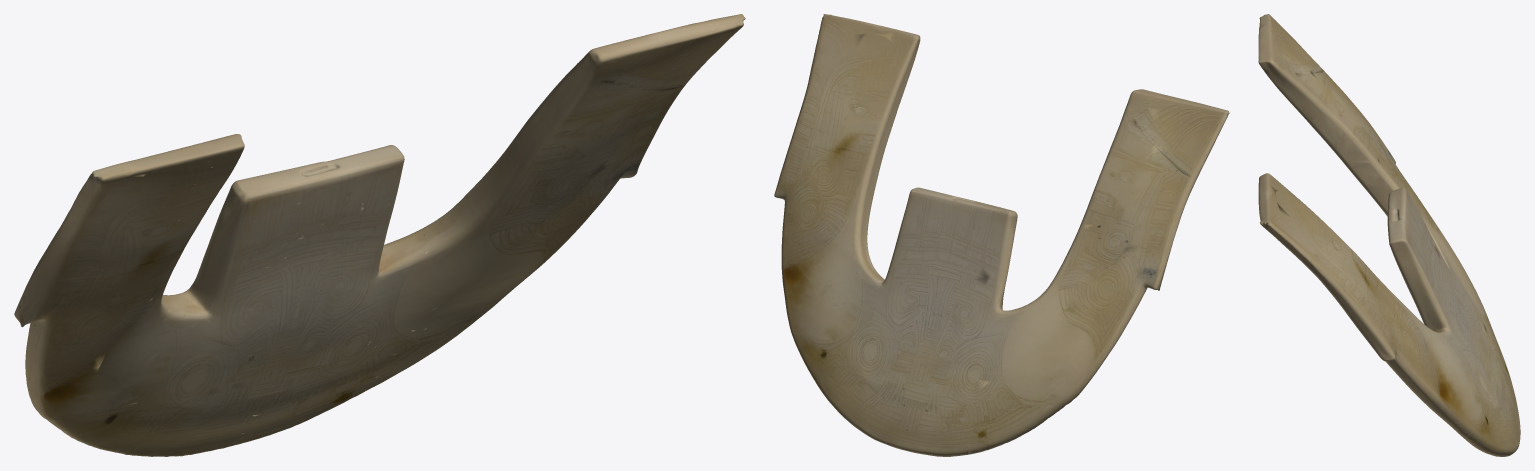
The model's file is jade-trident-a-detail.glb.
The picture shows the model from 3 angles, left to right: view 1: azimuth 30°, elevation 25°; view 2: azimuth 150°, elevation 25°; view 3: azimuth 270°, elevation 25°; orthographic projection. The views are drawn at different scales.
Parts seen in each view (by area): view 1: node_0; view 2: node_0; view 3: node_0.
Boxes of the visible parts, x1,y1,x2,y2 form: node_0: (14,14,745,456); node_0: (774,14,1229,456); node_0: (1258,14,1520,456).
Size of the model in its own units: 0.9076 by 0.6513 by 0.4818.
1 material, 1 textured.
